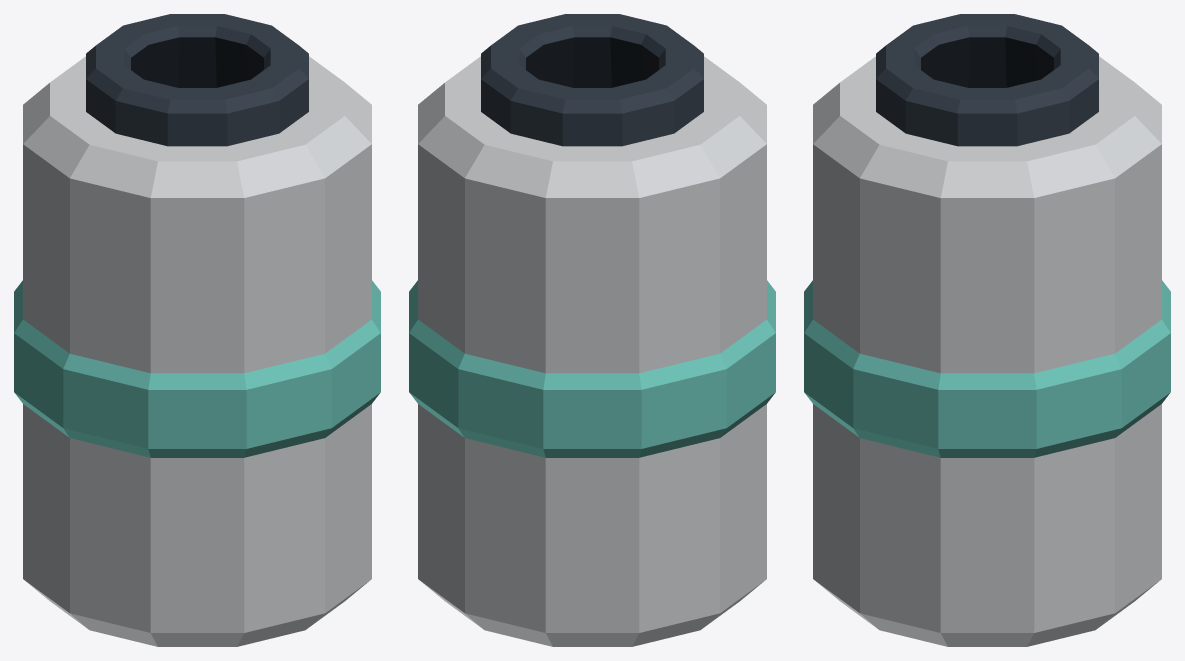
The model's file is coolant-cell-canister-0ee57e.glb.
3 renders of one model, left to right at view 1: azimuth 30°, elevation 25°; view 2: azimuth 150°, elevation 25°; view 3: azimuth 270°, elevation 25°, orthographic.
Visible parts, largest first — view 1: canister-shell; view 2: canister-shell; view 3: canister-shell.
Part boxes in pixels (x1,y1,x2,y2): canister-shell: [14, 14, 380, 646]; canister-shell: [409, 14, 775, 646]; canister-shell: [804, 14, 1170, 646].
Size of the model in its own units: 0.6298 by 1 by 0.6298.
